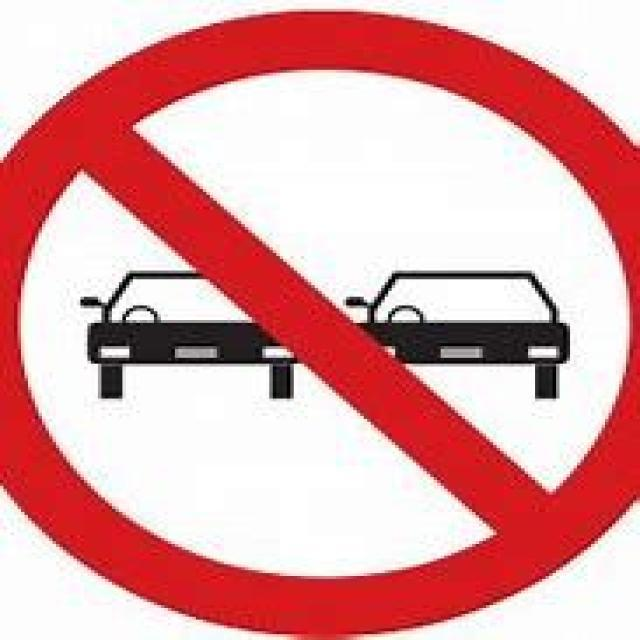overtaking prohibited: (37, 11, 619, 623)
